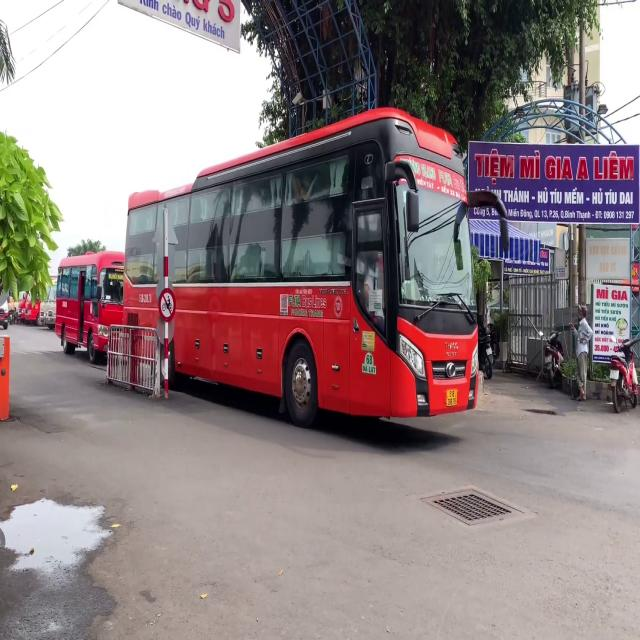bien_vang: (446, 388, 457, 407)
